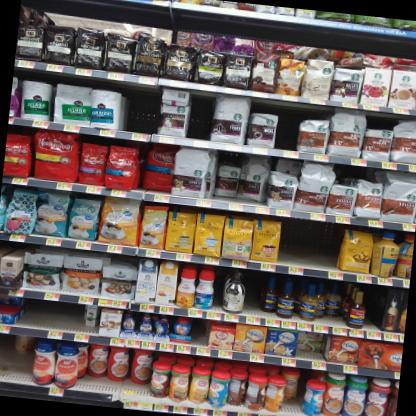empty_space: (281, 225, 337, 273), (120, 92, 159, 136), (186, 95, 211, 143), (277, 110, 300, 154), (27, 301, 53, 330), (56, 304, 80, 334), (0, 350, 21, 383)
